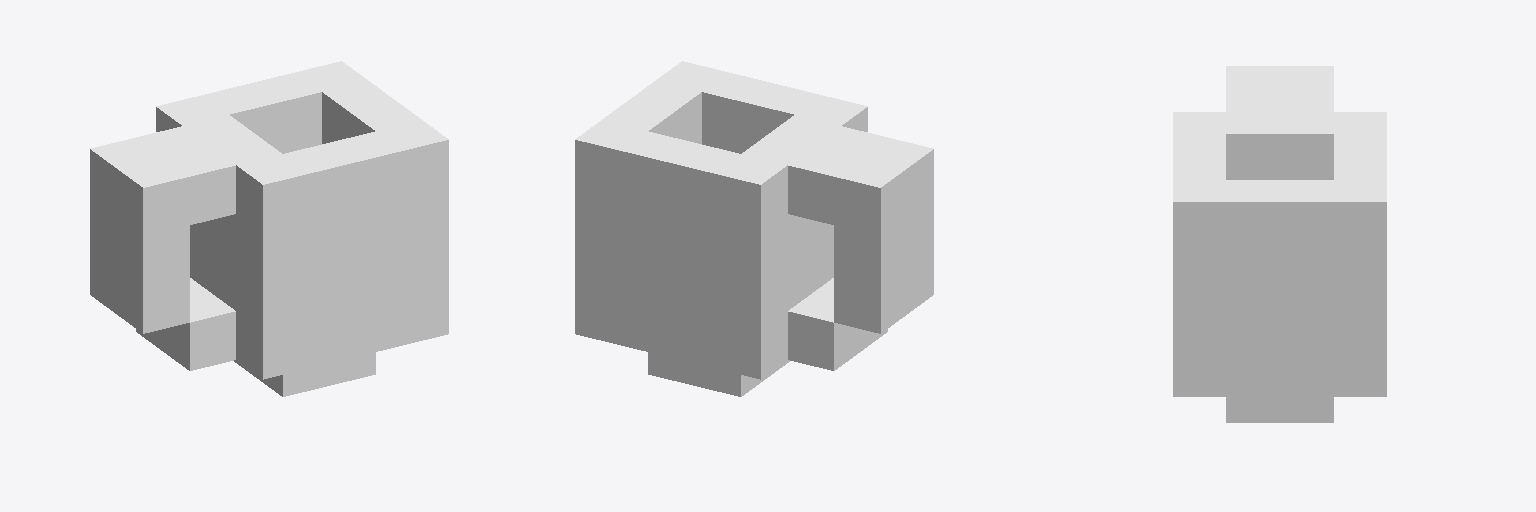
The model's file is JuiceCup.obj.
3 renders of one model, left to right at view 1: azimuth 30°, elevation 25°; view 2: azimuth 150°, elevation 25°; view 3: azimuth 270°, elevation 25°, orthographic.
Visible parts, largest first — view 1: object 1; view 2: object 1; view 3: object 1.
Part boxes in pixels (x1,y1,x2,y2): object 1: (90,61,448,396); object 1: (575,61,933,396); object 1: (1173,66,1386,422).
Bounding box in the file's own units: 0.6 × 0.5 × 0.4.